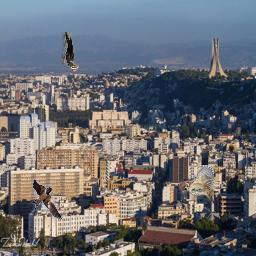Sparrow: (179, 165, 214, 204)
Swallow: (27, 179, 63, 219)
Woodpecker: (62, 32, 79, 72)
